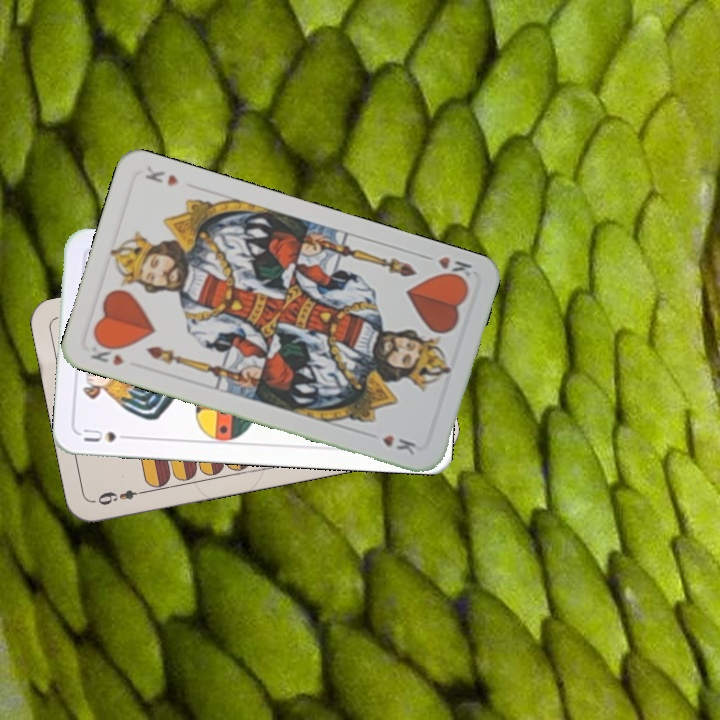E9: (93, 485, 149, 508)
HK: (418, 250, 474, 286), (86, 337, 126, 369)
SU: (79, 425, 136, 445)
